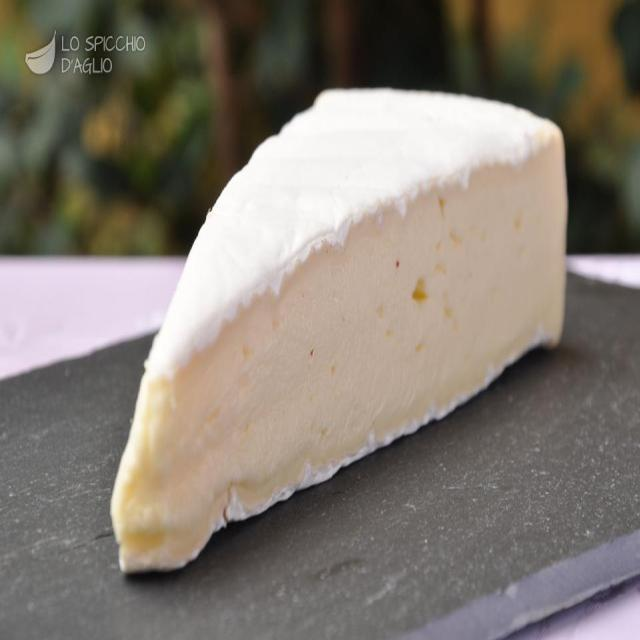Cheese: (112, 65, 576, 588)
